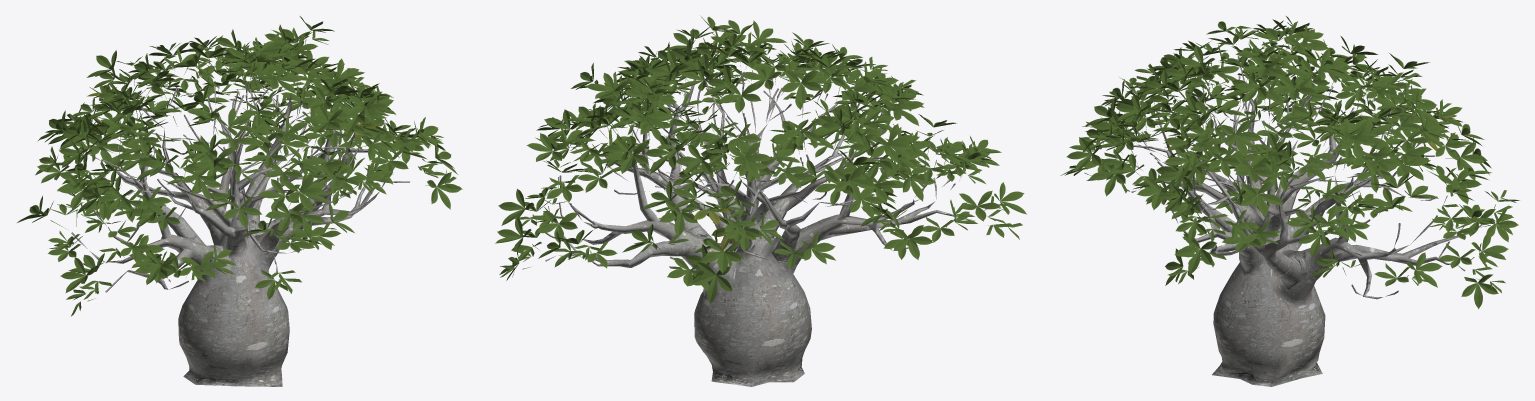
The model's file is baobab0.glb.
3 renders of one model, left to right at view 1: azimuth 30°, elevation 25°; view 2: azimuth 150°, elevation 25°; view 3: azimuth 270°, elevation 25°, orthographic.
Visible parts, largest first — view 1: Adansonia_digitata_HD_Adansonia leaf 01_0, Adansonia_digitata_HD_Adansonia bark_0, Adansonia_digitata_HD_Adansonia twig_0; view 2: Adansonia_digitata_HD_Adansonia leaf 01_0, Adansonia_digitata_HD_Adansonia bark_0, Adansonia_digitata_HD_Adansonia twig_0; view 3: Adansonia_digitata_HD_Adansonia leaf 01_0, Adansonia_digitata_HD_Adansonia bark_0, Adansonia_digitata_HD_Adansonia twig_0.
Boxes of the visible parts, x1,y1,x2,y2 form: Adansonia_digitata_HD_Adansonia leaf 01_0: (17,16,462,316); Adansonia_digitata_HD_Adansonia bark_0: (71,74,410,386); Adansonia_digitata_HD_Adansonia twig_0: (50,39,429,301); Adansonia_digitata_HD_Adansonia leaf 01_0: (495,16,1026,303); Adansonia_digitata_HD_Adansonia bark_0: (545,71,974,386); Adansonia_digitata_HD_Adansonia twig_0: (522,44,998,269); Adansonia_digitata_HD_Adansonia leaf 01_0: (1060,16,1519,309); Adansonia_digitata_HD_Adansonia bark_0: (1107,56,1482,386); Adansonia_digitata_HD_Adansonia twig_0: (1084,32,1495,279).
Bounding box in the file's own units: 7 × 5.37 × 6.79.
Materials: 7 (7 with a texture image).
